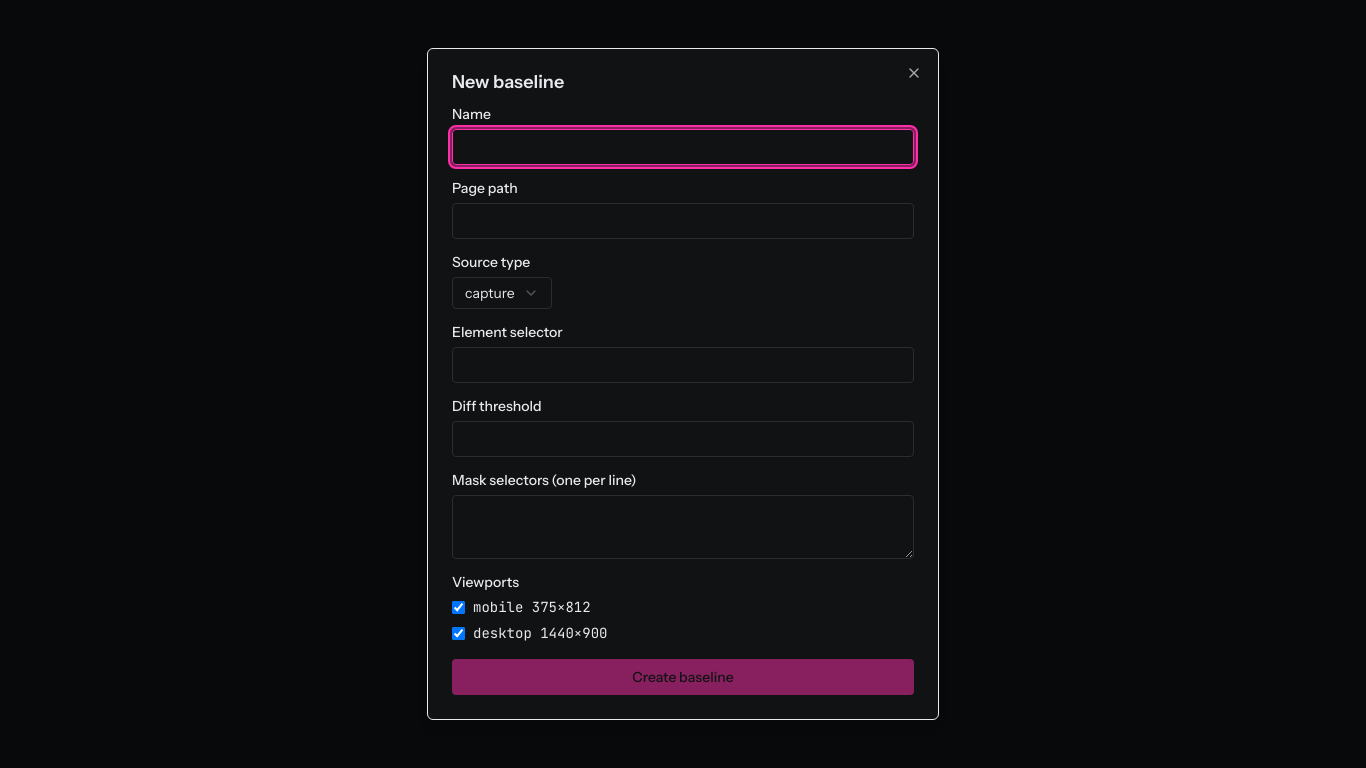
it: BaselineDialog › keeps the dialog open and shows the inline error when the submit is rejected
Type "home" into the field labelled "Name" at {"x": 683, "y": 147}, box x1=452 y1=129 x2=914 y2=165
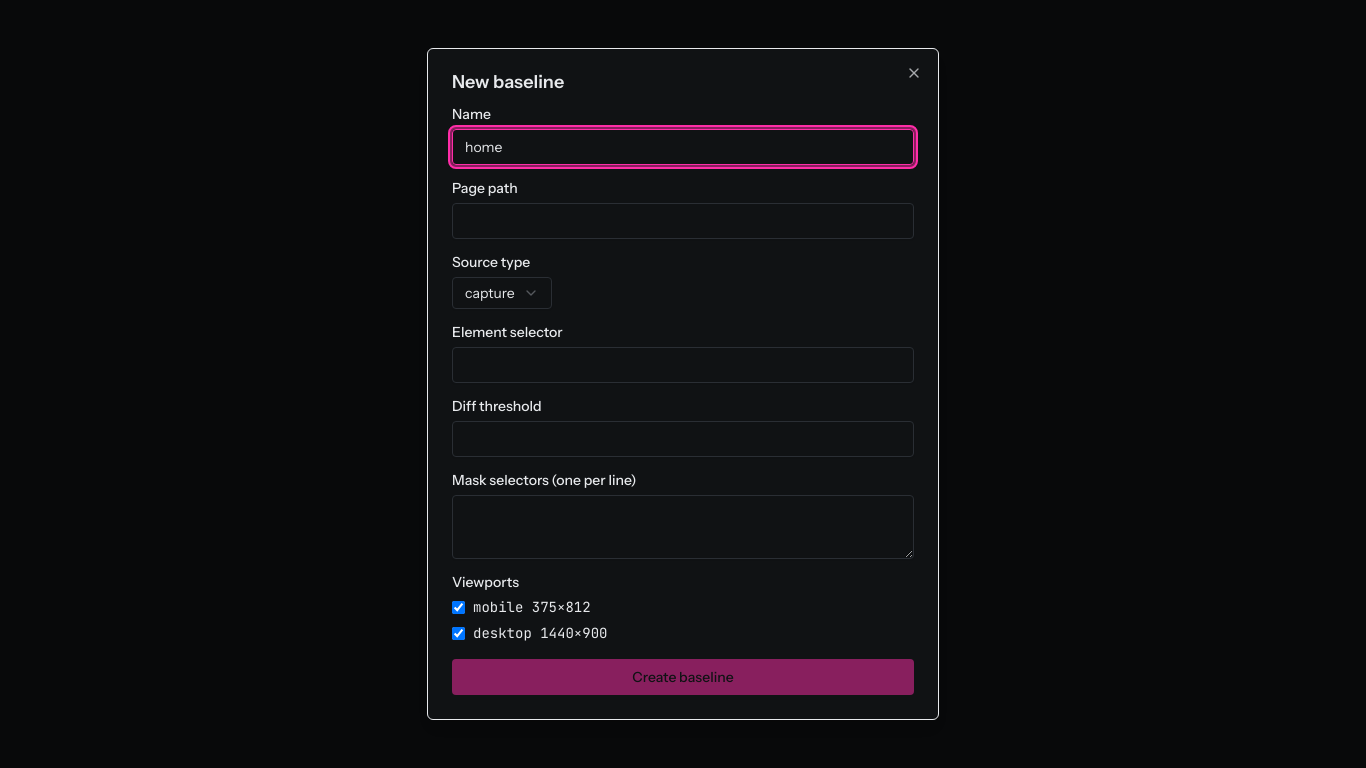
Type "/home" into the field labelled "Page path" at {"x": 683, "y": 221}, box x1=452 y1=203 x2=914 y2=239
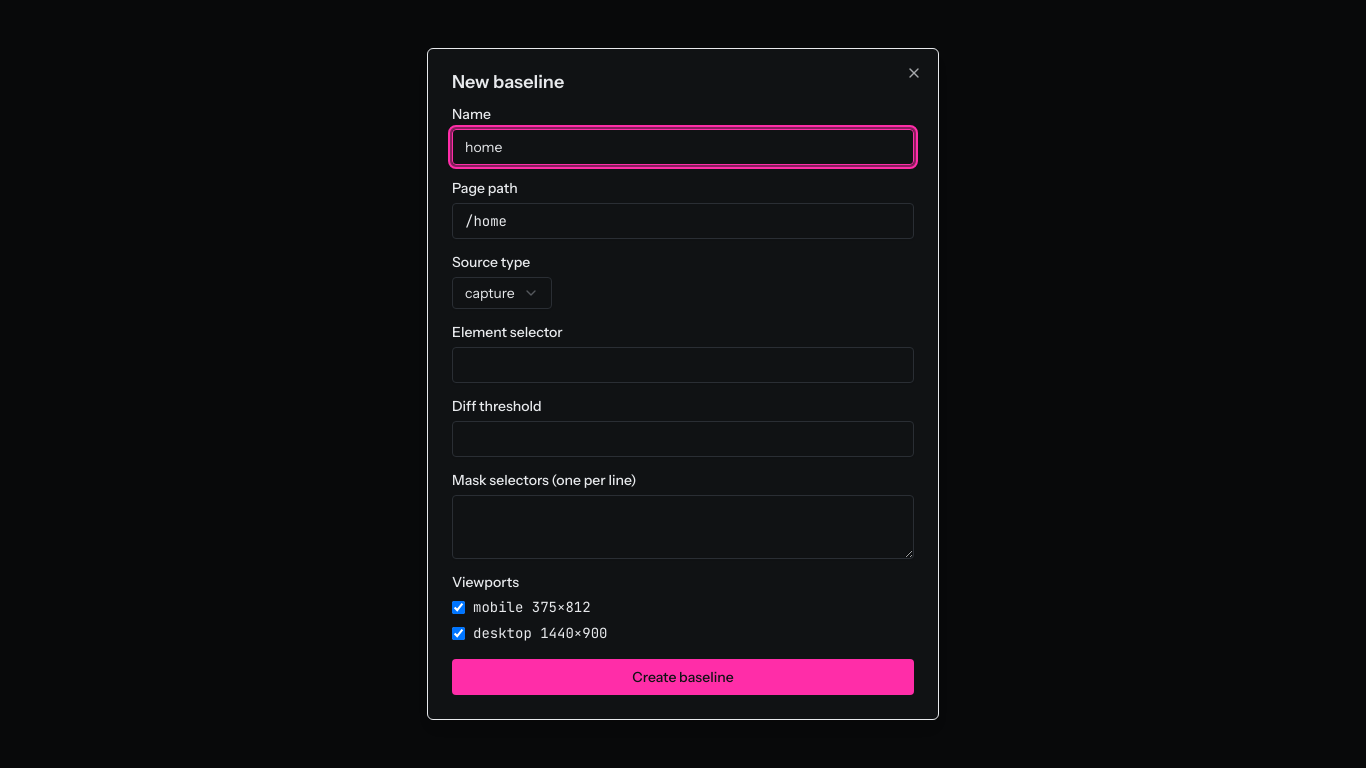
Click the button "Create baseline" at {"x": 683, "y": 677}, box x1=452 y1=659 x2=914 y2=695
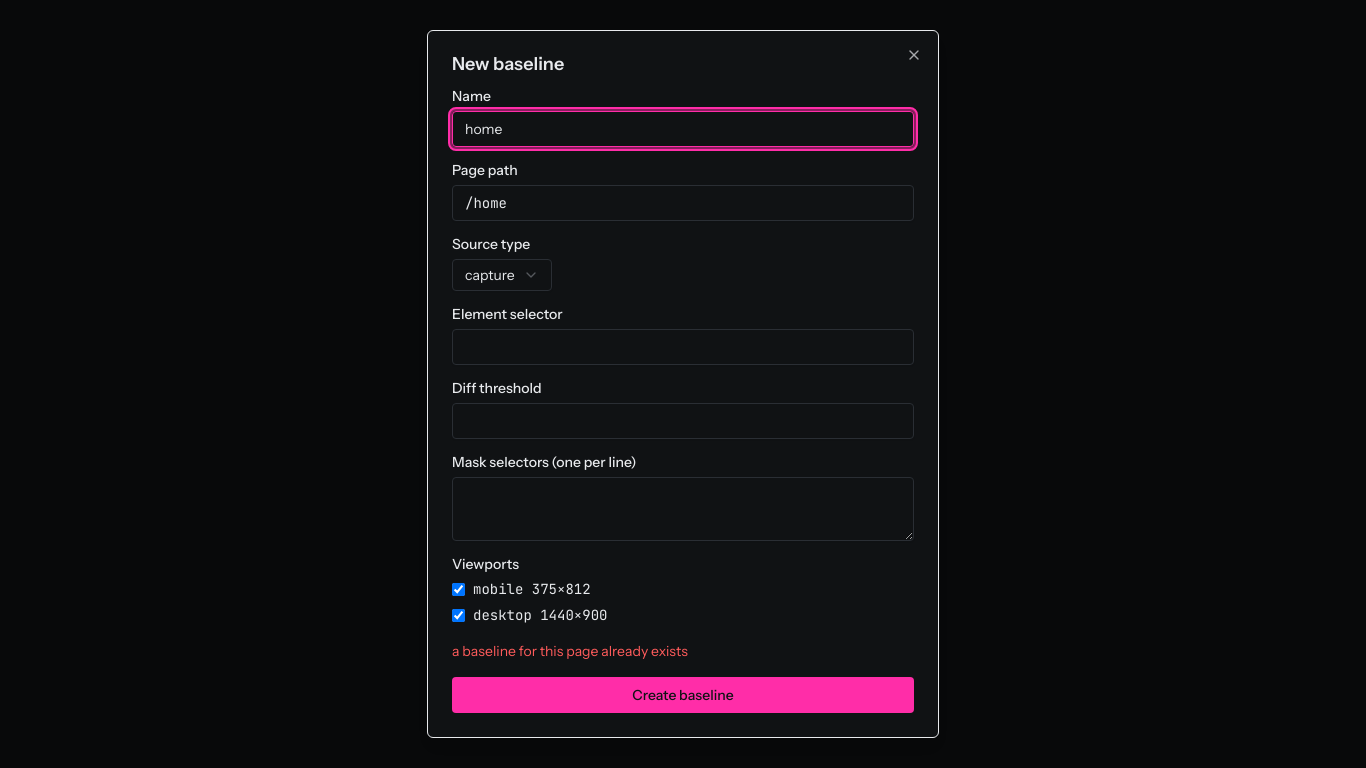
Check: the text "a baseline for this page already exists" is shown, box x1=452 y1=642 x2=688 y2=660
